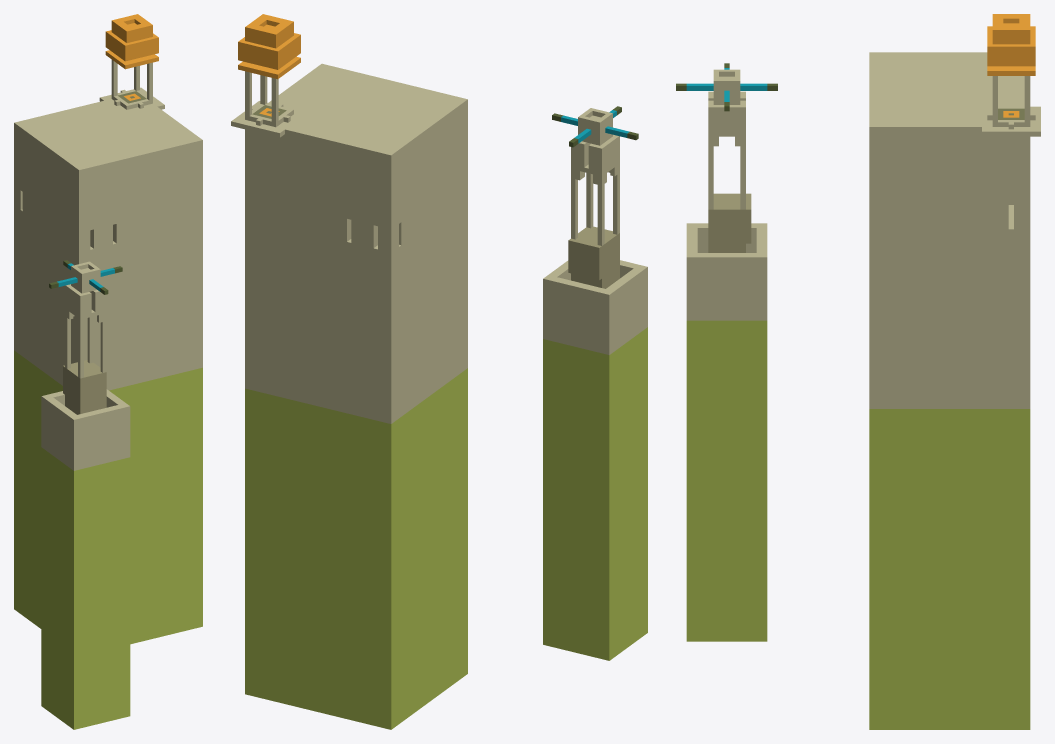
Rendered from testScript.obj.
The picture shows the model from 3 angles, left to right: view 1: azimuth 30°, elevation 25°; view 2: azimuth 150°, elevation 25°; view 3: azimuth 270°, elevation 25°; orthographic projection. The views are drawn at different scales.
Size of the model in its own units: 5.8 by 14.4 by 6.8.
Materials: 1 (1 with a texture image).
